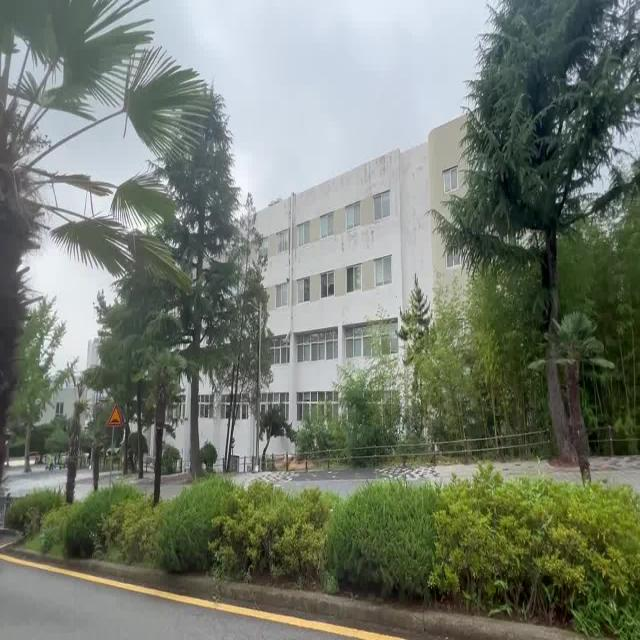building: (279, 161, 397, 369)
